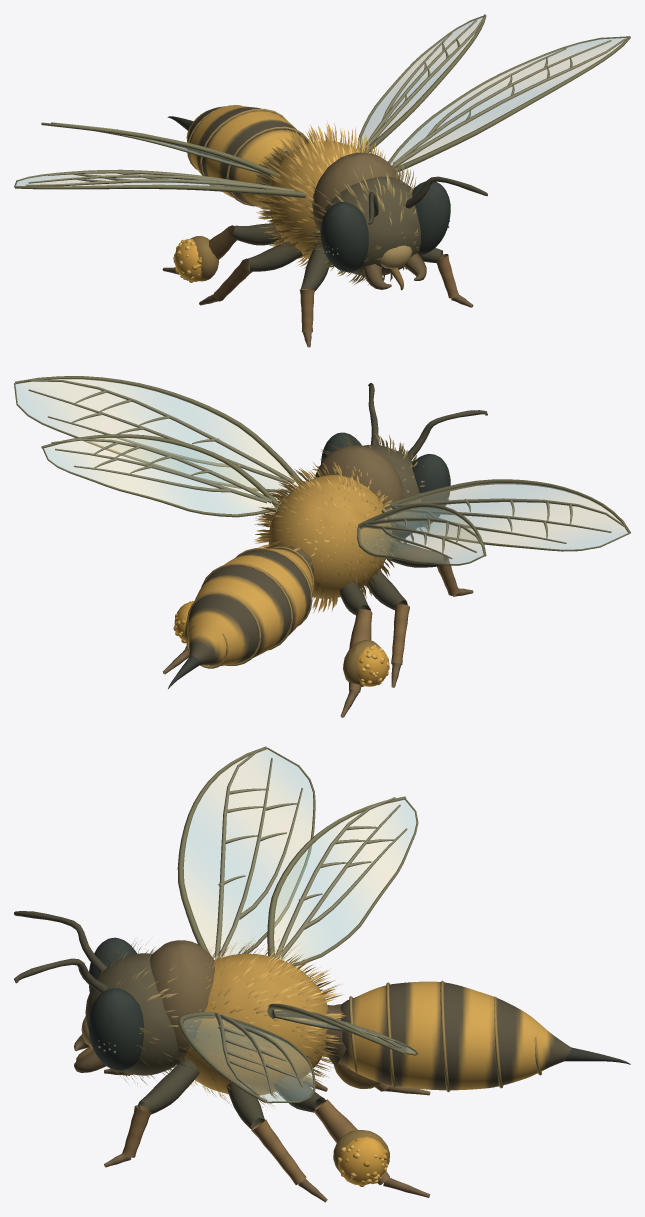
Rendered from bee.glb.
3 views of the same model, one above another, from view 1: azimuth 30°, elevation 25°; view 2: azimuth 150°, elevation 25°; view 3: azimuth 270°, elevation 25° (orthographic). The views are drawn at different scales.
Parts seen in each view (by area): view 1: body, glass_1, wing_1, abdomen, wing_-1, leg_-1_2, leg_-1_1, leg_-1_0, glass_-1, leg_1_0; view 2: body, glass_1, glass_-1, abdomen, wing_1, wing_-1, leg_-1_2, leg_-1_1, leg_-1_0, leg_1_2; view 3: body, glass_-1, abdomen, wing_-1, glass_1, wing_1, leg_1_2, leg_1_0, leg_1_1, leg_-1_2.
Part boxes in pixels (x1=…): body: x1=254, y1=120, x2=487, y2=290; glass_1: x1=360, y1=17, x2=626, y2=165; wing_1: x1=357, y1=14, x2=630, y2=172; abdomen: x1=167, y1=105, x2=309, y2=206; wing_-1: x1=14, y1=122, x2=306, y2=197; leg_-1_2: x1=162, y1=223, x2=284, y2=282; leg_-1_1: x1=199, y1=241, x2=302, y2=305; leg_-1_0: x1=299, y1=244, x2=330, y2=347; glass_-1: x1=16, y1=136, x2=258, y2=187; leg_1_0: x1=421, y1=248, x2=473, y2=307; body: x1=254, y1=383, x2=487, y2=613; glass_1: x1=15, y1=379, x2=298, y2=513; glass_-1: x1=360, y1=483, x2=629, y2=563; abdomen: x1=168, y1=546, x2=314, y2=688; wing_1: x1=14, y1=376, x2=303, y2=517; wing_-1: x1=357, y1=479, x2=630, y2=565; leg_-1_2: x1=339, y1=583, x2=389, y2=717; leg_-1_1: x1=366, y1=570, x2=409, y2=687; leg_-1_0: x1=386, y1=541, x2=473, y2=596; leg_1_2: x1=163, y1=601, x2=194, y2=674; body: x1=14, y1=911, x2=345, y2=1110; glass_-1: x1=184, y1=749, x2=416, y2=963; abdomen: x1=325, y1=980, x2=630, y2=1092; wing_-1: x1=177, y1=746, x2=418, y2=966; glass_1: x1=184, y1=1010, x2=415, y2=1101; wing_1: x1=178, y1=1003, x2=418, y2=1103; leg_1_2: x1=273, y1=1076, x2=430, y2=1197; leg_1_0: x1=104, y1=1058, x2=199, y2=1167; leg_1_1: x1=226, y1=1081, x2=327, y2=1202; leg_-1_2: x1=333, y1=1059, x2=430, y2=1095.
Bounding box in the file's own units: 2.45 × 0.7289 × 1.8.
